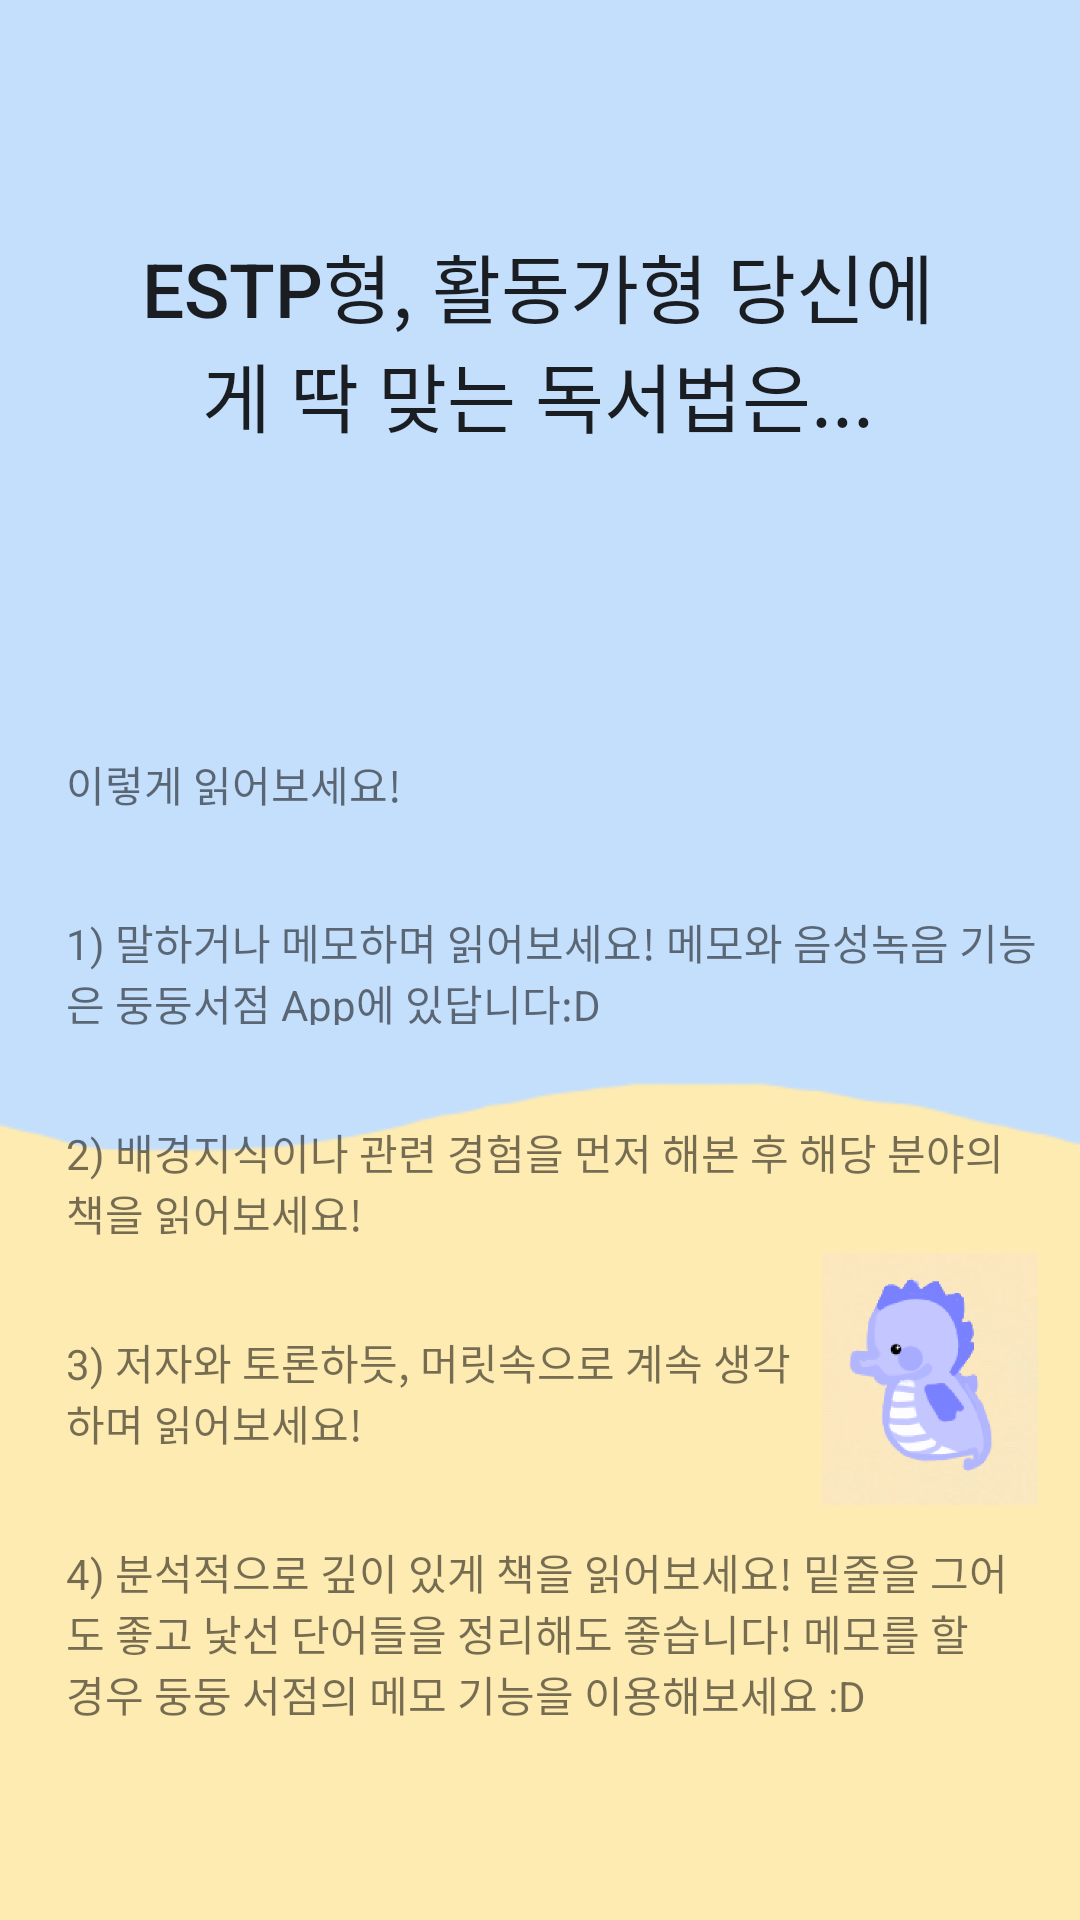

Screen size 1080px x 1920px. Icon name, then its center in pixels as point (x, y):
seahorse: point (920, 1375)
